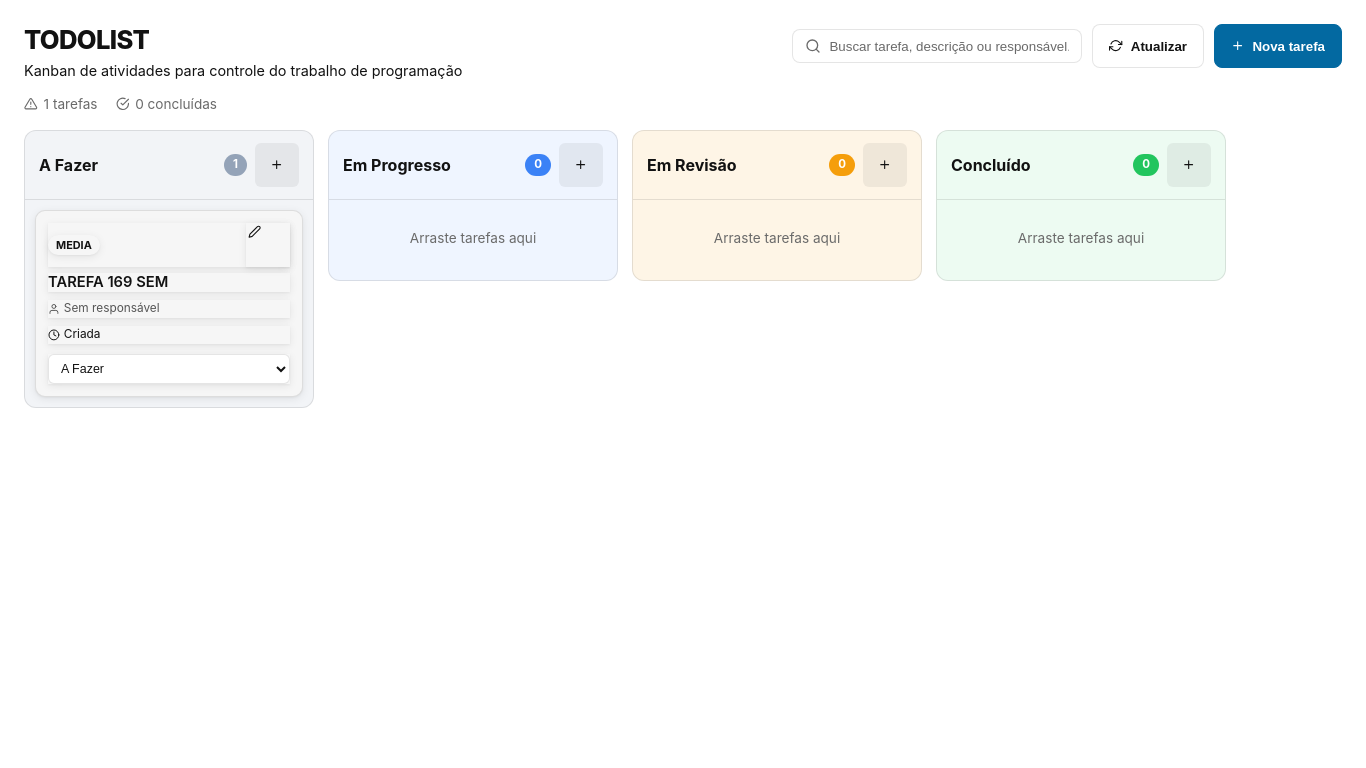
Test: [RN-169.04] Tarefas: o Criada em sem data continua "—"
The width and height of the screenshot is (1366, 768).
What coordinates should you click on to do the following:
click the element with class "todolist-card"
I would click on:
 (169, 303)
Its box is x1=35 y1=210 x2=303 y2=397.
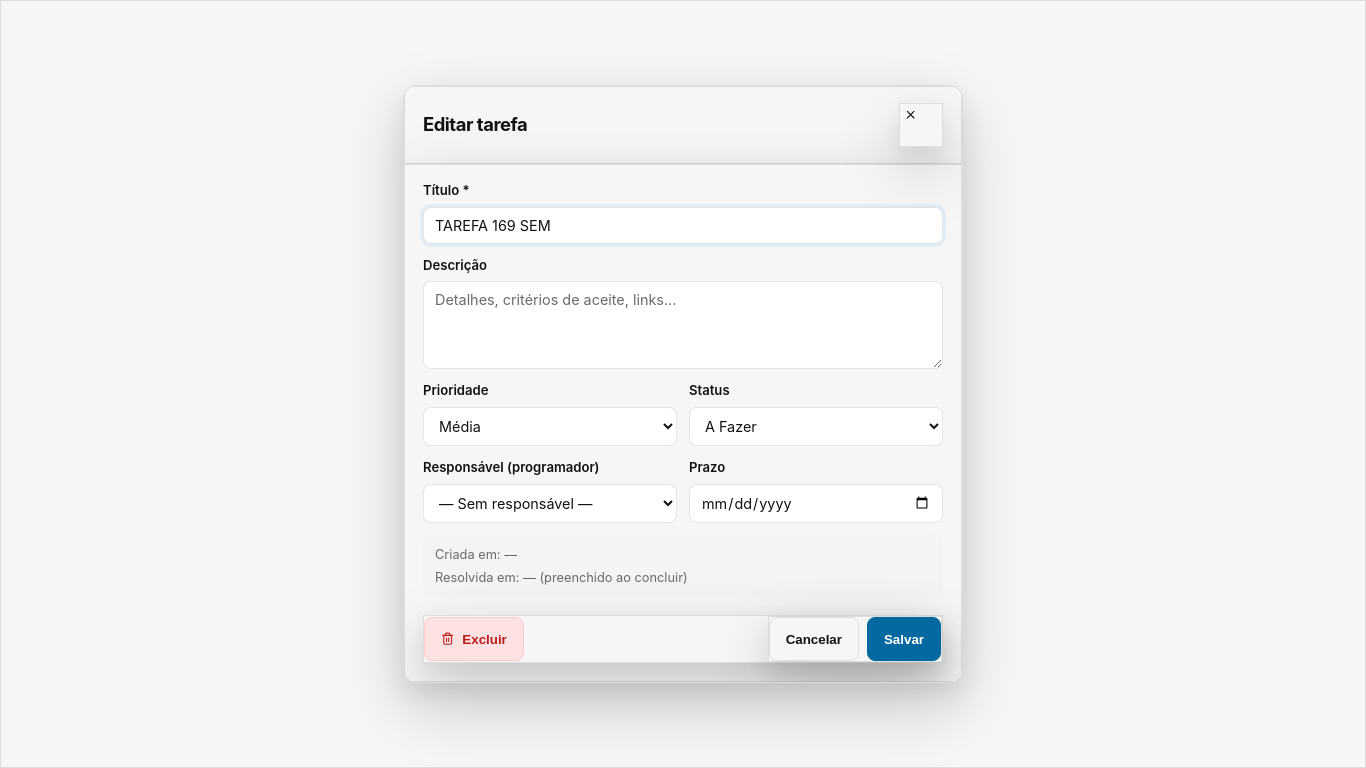
Check: the text "Criada em: —" is shown, box x1=435 y1=547 x2=517 y2=562
